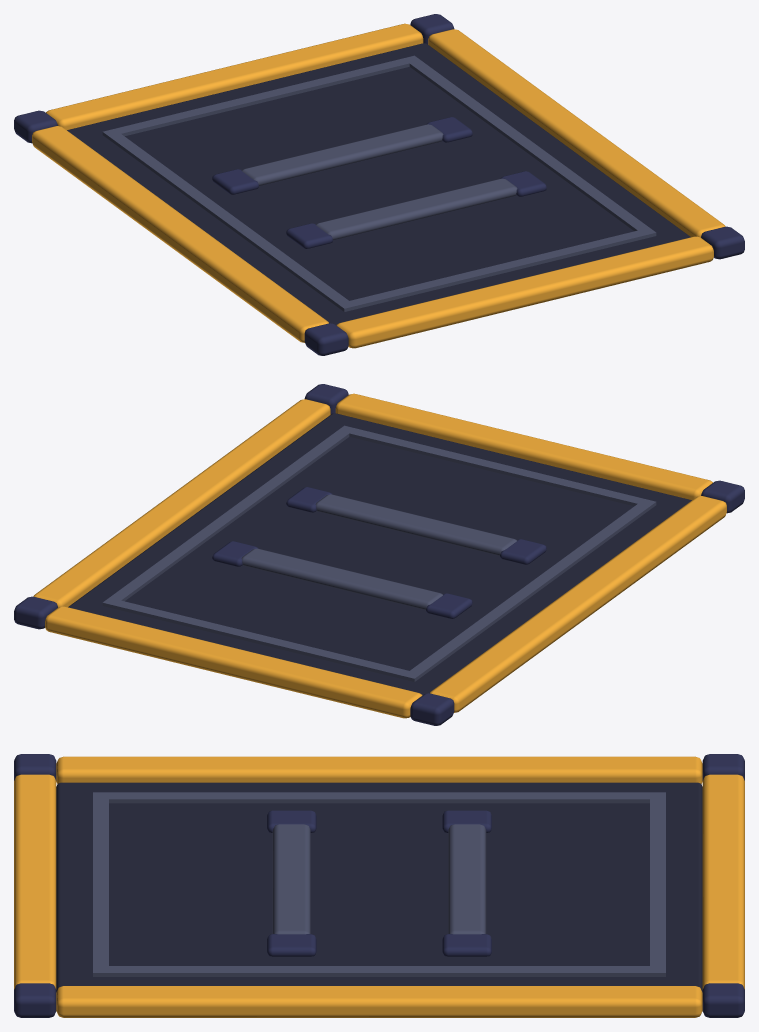
Rendered from prop.props_bridge.floor_hatch.glb.
3 views of the same model, one above another, from view 1: azimuth 30°, elevation 25°; view 2: azimuth 150°, elevation 25°; view 3: azimuth 270°, elevation 25° (orthographic). The views are drawn at different scales.
Visible parts, largest first — view 1: prop.props_bridge.floor_hatch; view 2: prop.props_bridge.floor_hatch; view 3: prop.props_bridge.floor_hatch.
Part boxes in pixels (x1,y1,x2,y2): prop.props_bridge.floor_hatch: (14, 14, 744, 355); prop.props_bridge.floor_hatch: (14, 384, 744, 725); prop.props_bridge.floor_hatch: (14, 754, 744, 1017).
Bounding box in the file's own units: 0.8 × 0.034 × 1.
